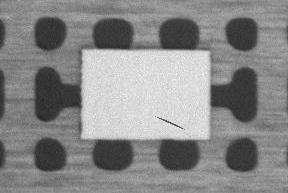DIE_INK: (228, 76, 278, 88)
